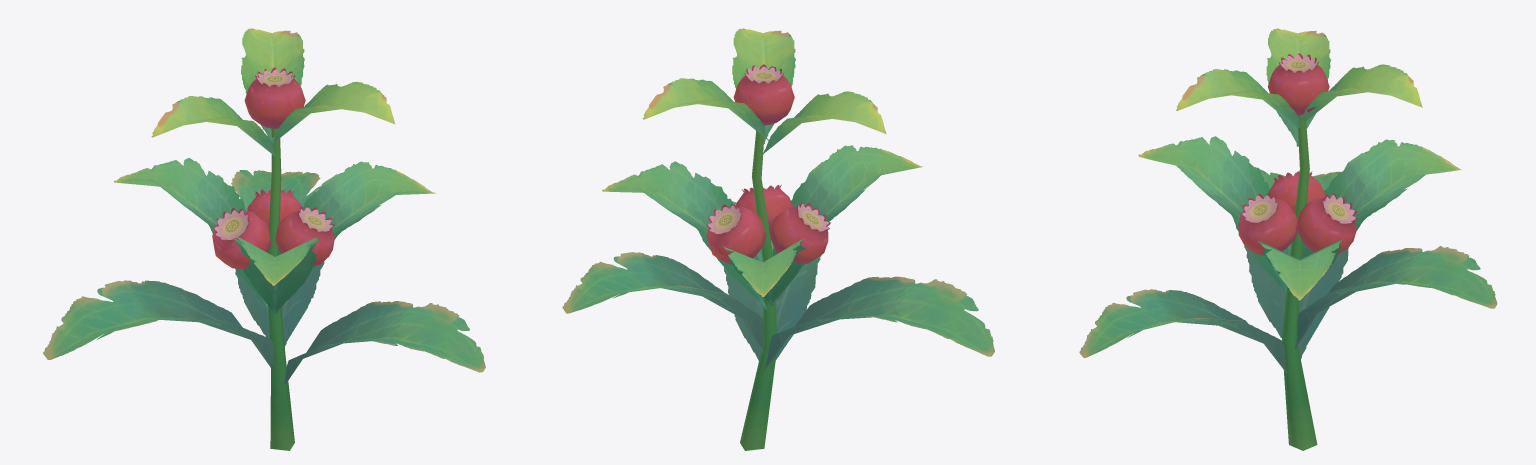
File: berryFlower.glb
3 renders of one model, left to right at view 1: azimuth 30°, elevation 25°; view 2: azimuth 150°, elevation 25°; view 3: azimuth 270°, elevation 25°, orthographic.
Parts seen in each view (by area): view 1: DropingBerry_Vo; view 2: DropingBerry_Vo; view 3: DropingBerry_Vo.
Boxes of the visible parts, x1,y1,x2,y2 form: DropingBerry_Vo: (43, 28, 485, 450); DropingBerry_Vo: (562, 28, 994, 450); DropingBerry_Vo: (1079, 28, 1497, 450).
Size of the model in its own units: 0.9062 by 0.8341 by 0.9203.
Materials: 1 (1 with a texture image).
